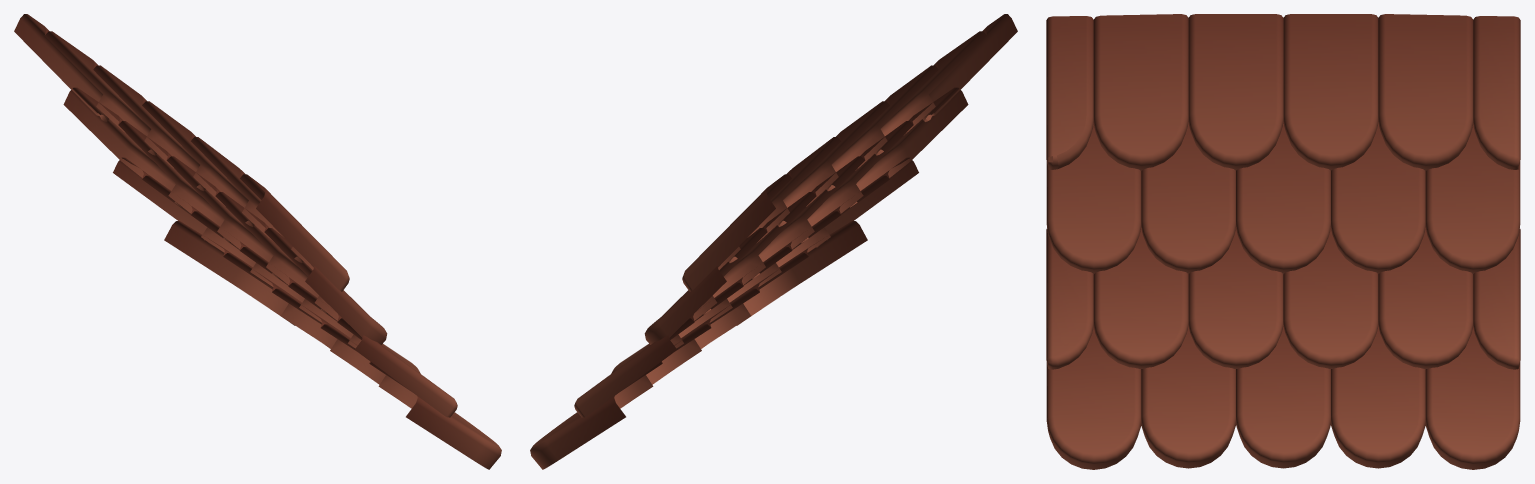
Rendered from Roof_outer_001.fbx.
3 views of the same model, side by side, from view 1: azimuth 30°, elevation 25°; view 2: azimuth 150°, elevation 25°; view 3: azimuth 270°, elevation 25° (orthographic). The views are drawn at different scales.
Parts seen in each view (by area): view 1: Roof_outer_001; view 2: Roof_outer_001; view 3: Roof_outer_001.
Boxes of the visible parts, x1,y1,x2,y2 form: Roof_outer_001: (14,14,501,469); Roof_outer_001: (530,14,1017,469); Roof_outer_001: (1046,14,1520,469).
Size of the model in its own units: 3.78 by 4.82 by 6.05.
